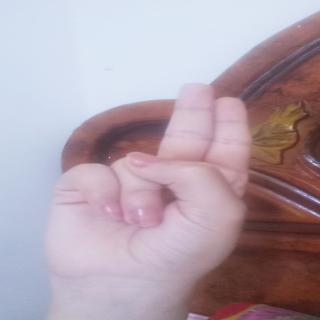TA: (30, 79, 285, 294)
